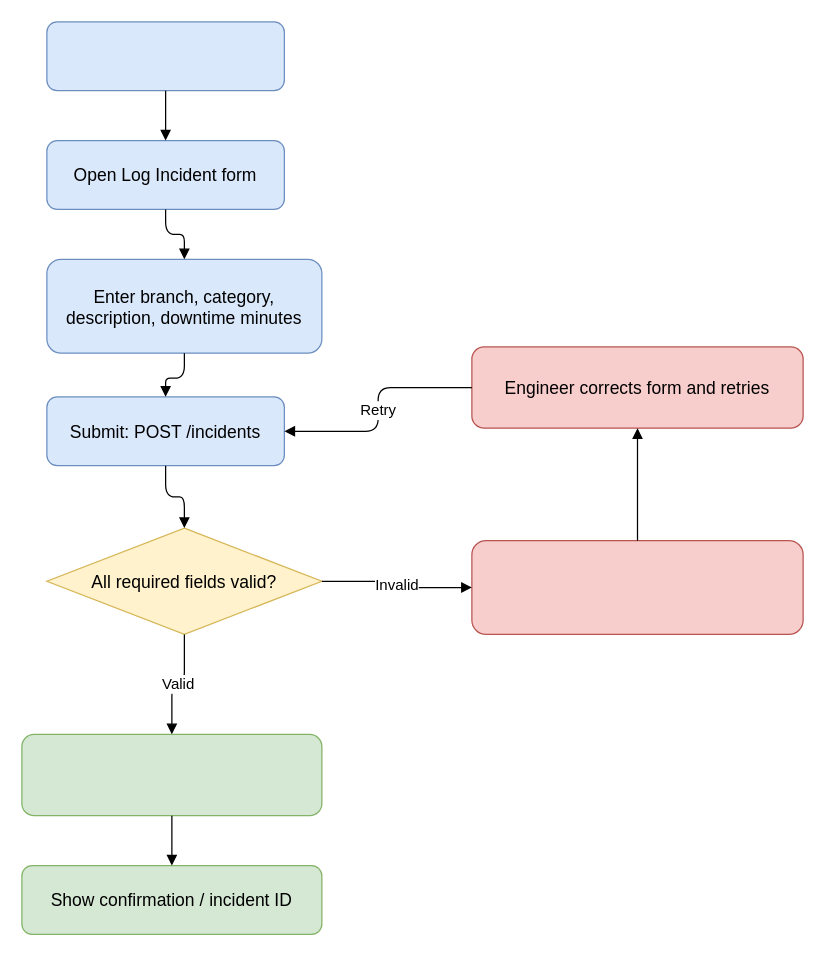
Some shapes in this 825 by 956 pixel diagram are drawn without their labels. Each missing label, with the box of its shape:
Ops Engineer: (46, 21, 284, 91)
Save incident in incidents table: (21, 733, 322, 816)
Show validation error: missing field or invalid downtime: (471, 539, 803, 634)
